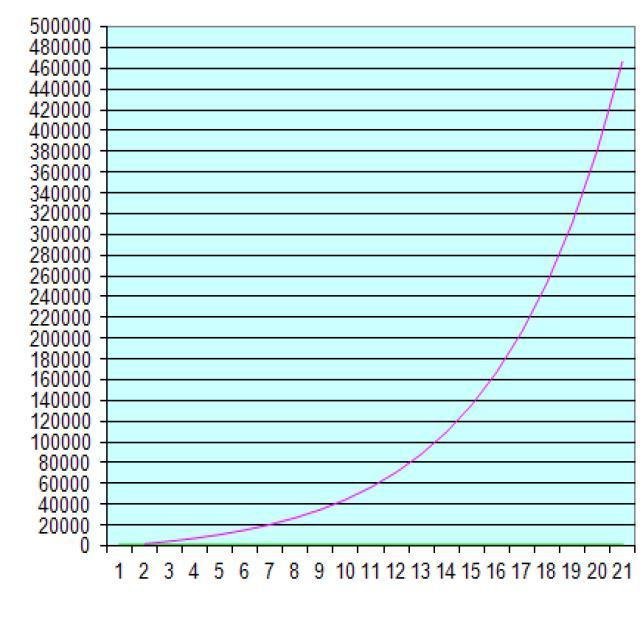axis: (96, 15, 112, 555), (99, 540, 640, 555)
line: (107, 58, 626, 550)
